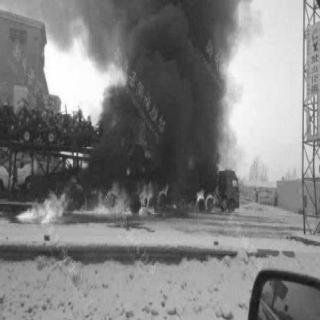Fire: (9, 171, 219, 225)
Smoke: (84, 1, 250, 171)
